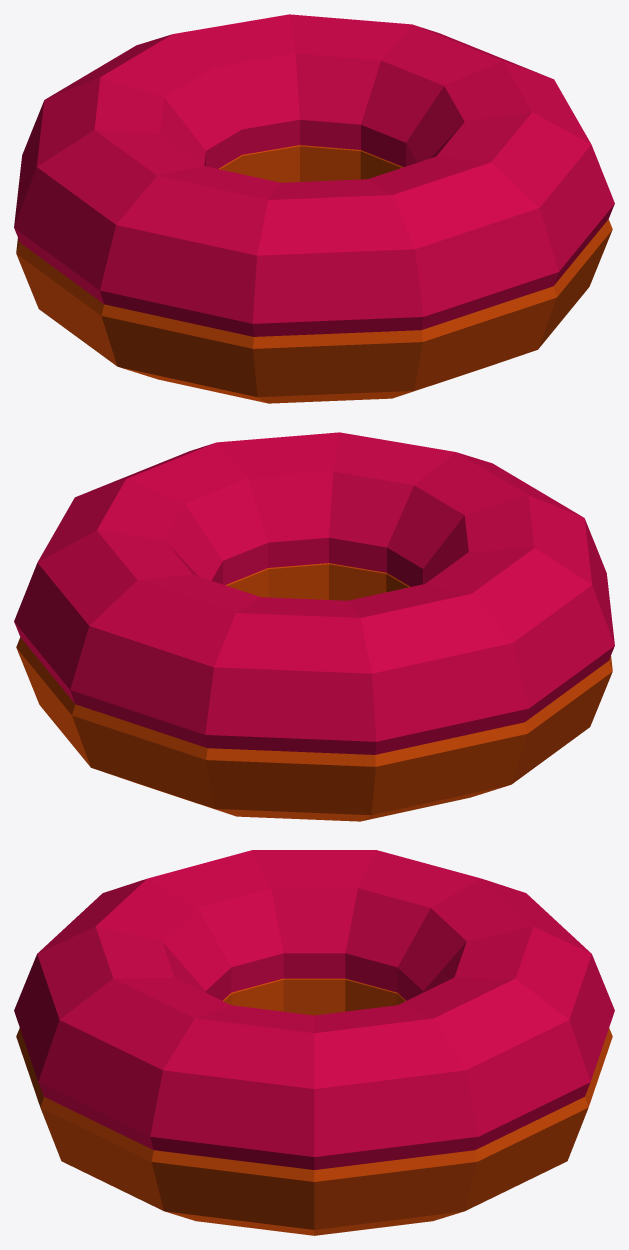
The model's file is donut.obj.
3 views of the same model, one above another, from view 1: azimuth 30°, elevation 25°; view 2: azimuth 150°, elevation 25°; view 3: azimuth 270°, elevation 25° (orthographic).
Visible parts, largest first — view 1: Donut5.001; view 2: Donut5.001; view 3: Donut5.001.
Boxes of the visible parts, x1,y1,x2,y2 form: Donut5.001: (14,14,614,403); Donut5.001: (14,432,614,821); Donut5.001: (14,850,614,1235).
Bounding box in the file's own units: 1.44 × 0.5435 × 1.46.
